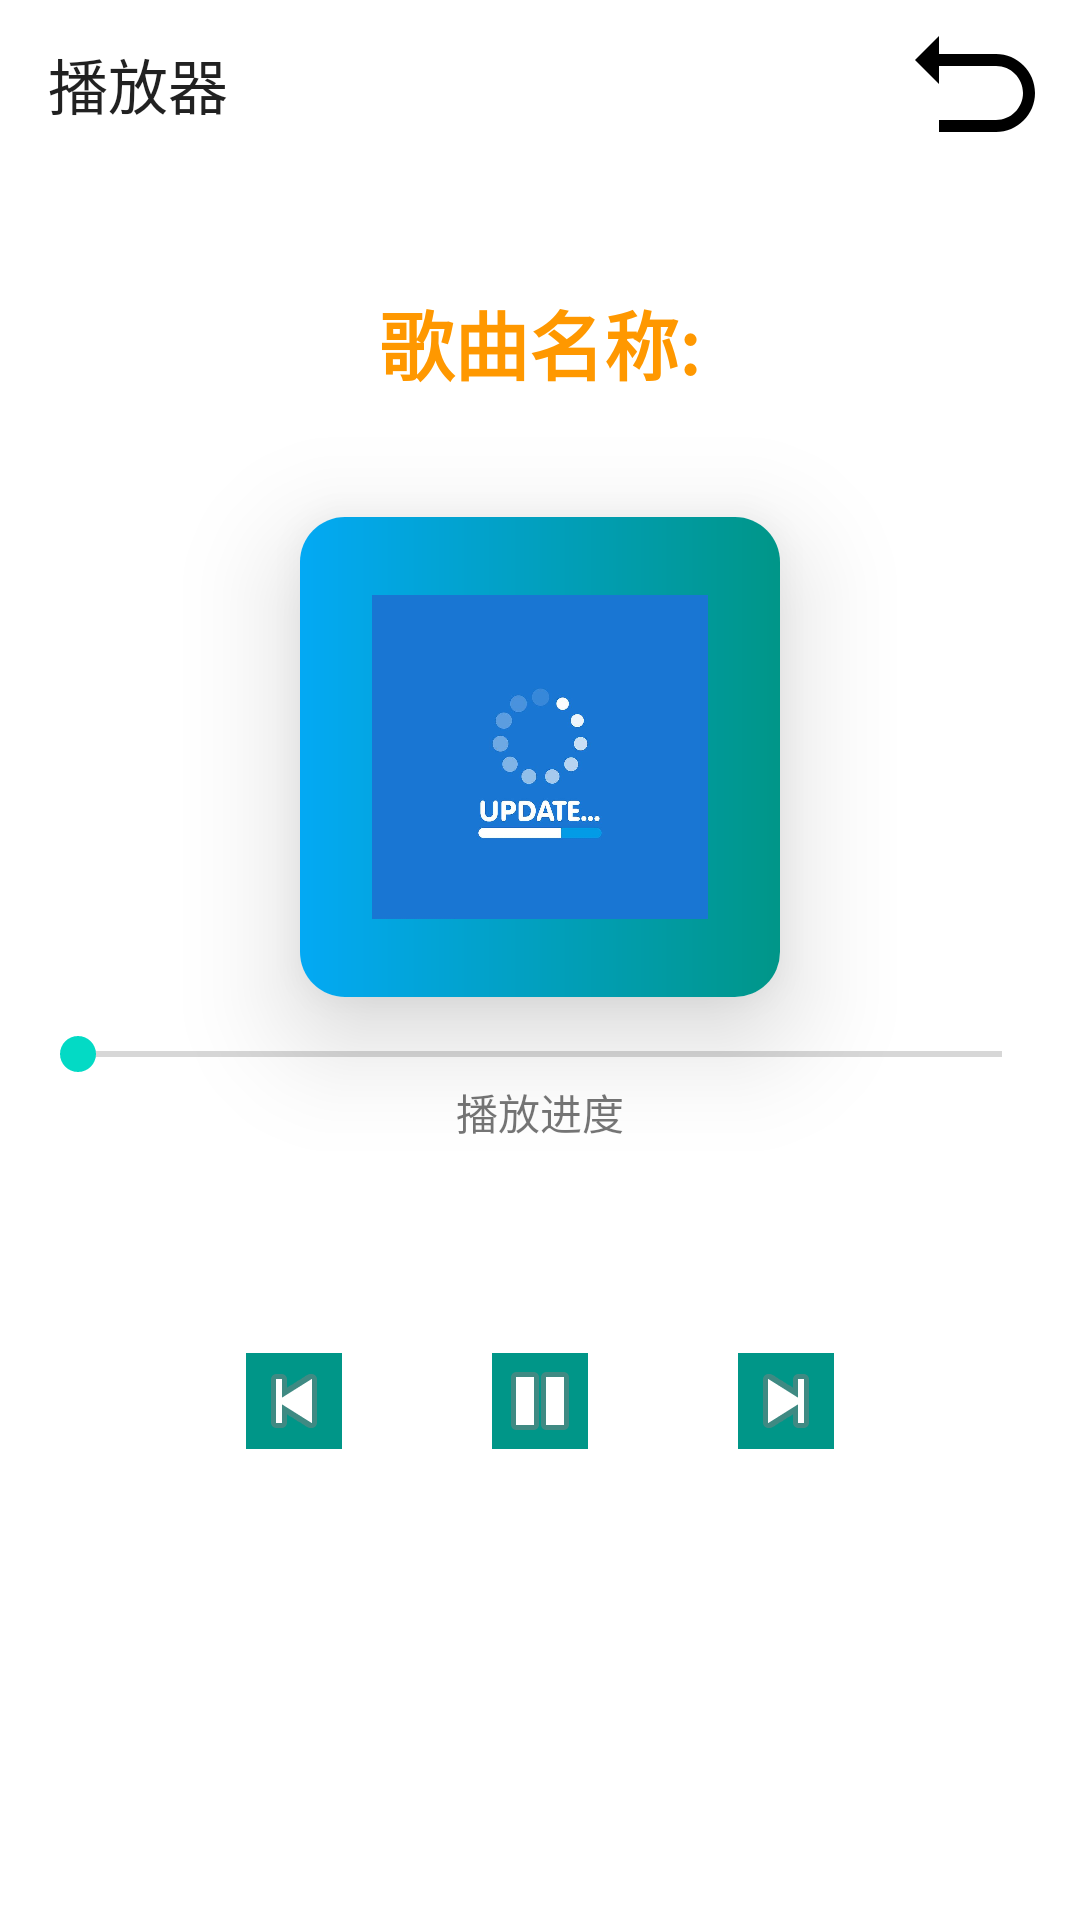

Where to tap for icons on this 1080*1920 app screen, as (x=x, y=y):
backward: (x=975, y=84)
next: (x=786, y=1401)
pause: (x=540, y=1401)
previous: (x=294, y=1401)
